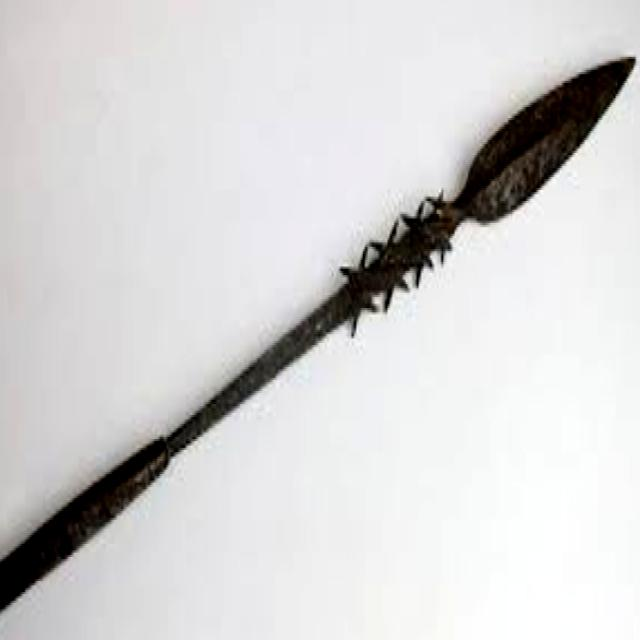spear: (10, 39, 638, 607)
